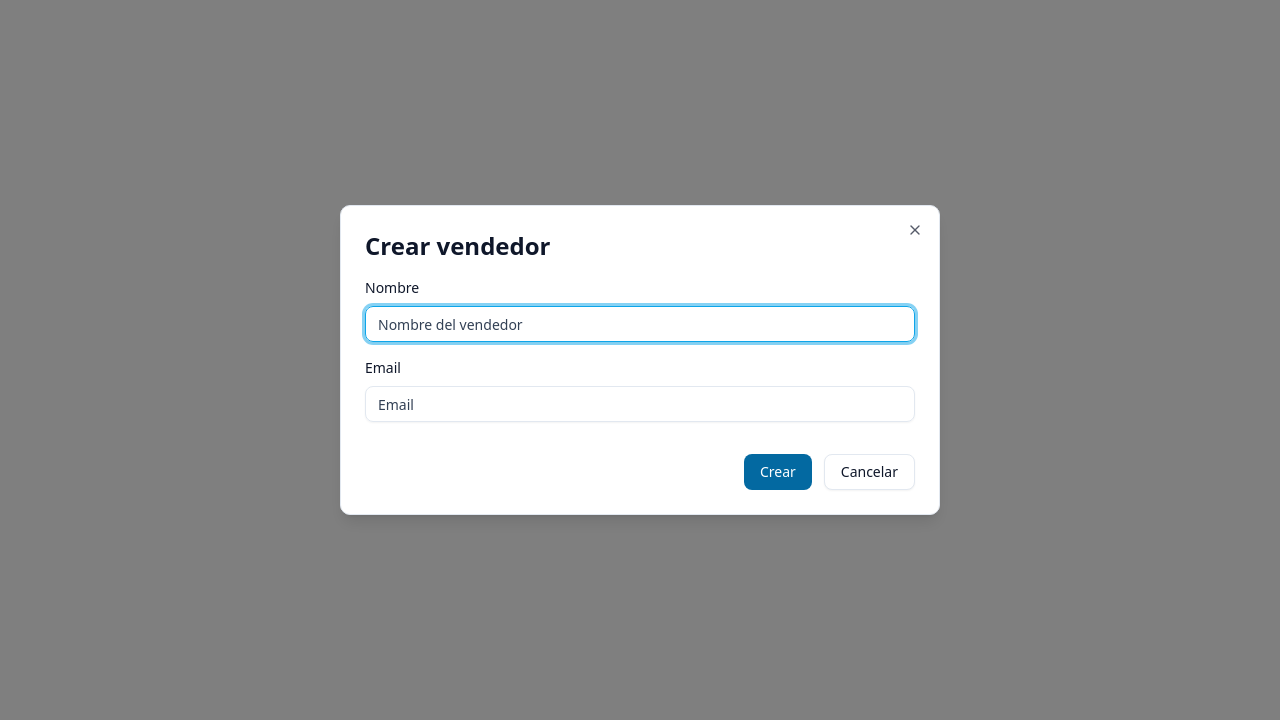
Test case: CreateVendedorForm - Unit › muestra mensajes de error cuando se intenta enviar vacío
Click the button "Crear": (778, 472) [744,454,812,490]
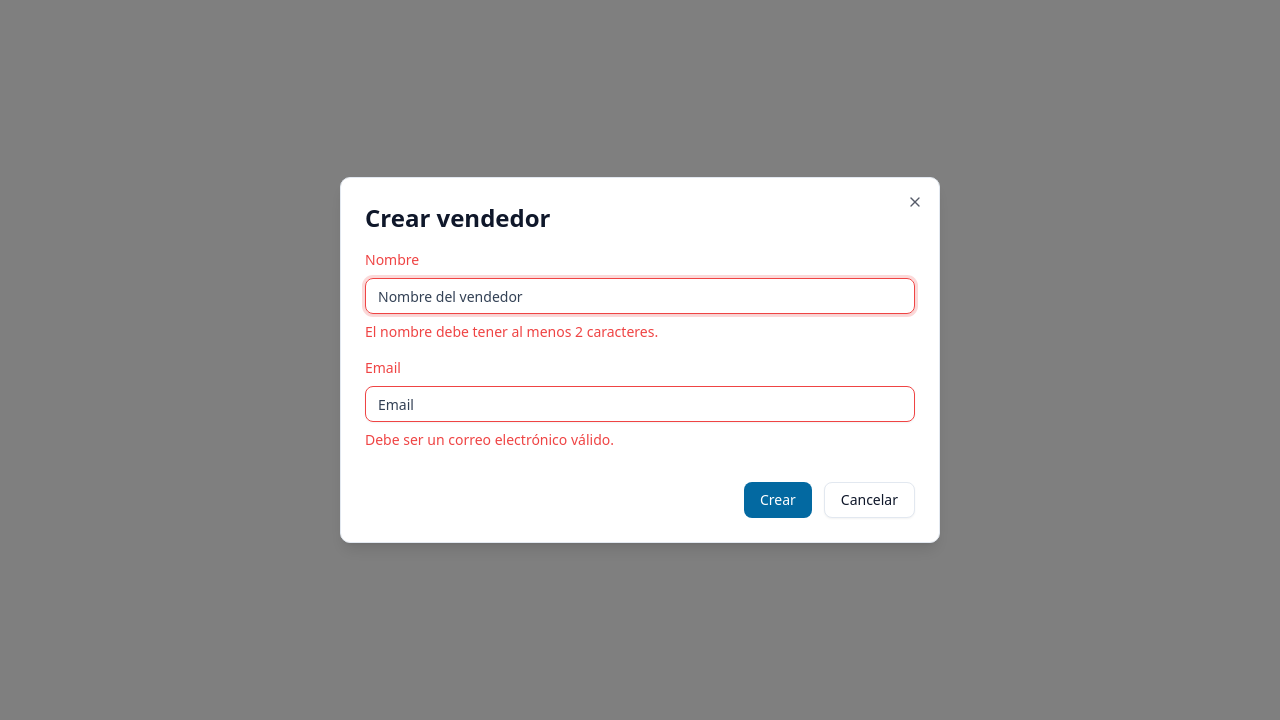
Check: the text "El nombre debe tener al menos 2 caracteres." is shown, box [365,322,658,341]
Check: the text "Debe ser un correo electrónico válido." is shown, box [365,430,614,449]
